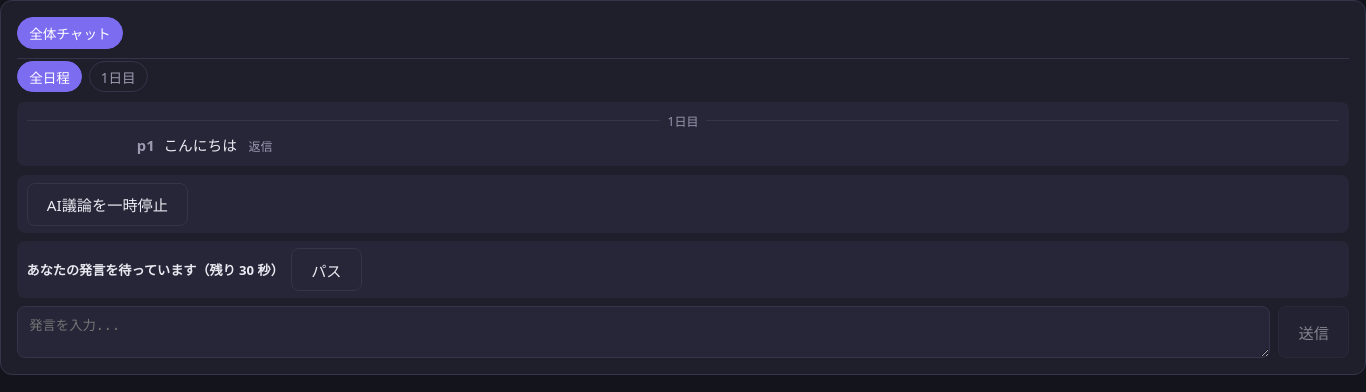
Scenario: ChatPanel › keeps the send button usable while a pass is in flight
Type "考えを述べます" into the text box with placeholder "発言を入力..." at (644, 332), box [17, 306, 1270, 358]
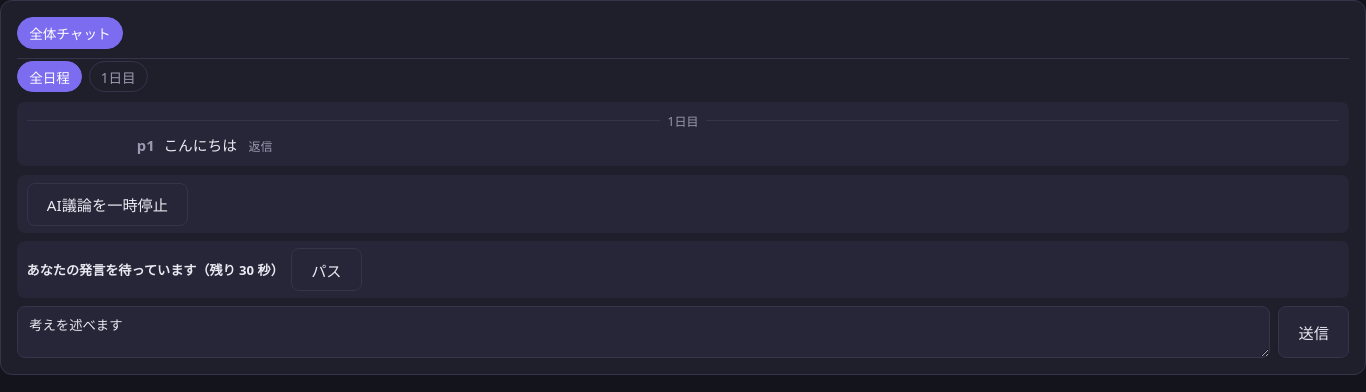
Click the button "パス" at (326, 270), box [291, 248, 362, 291]
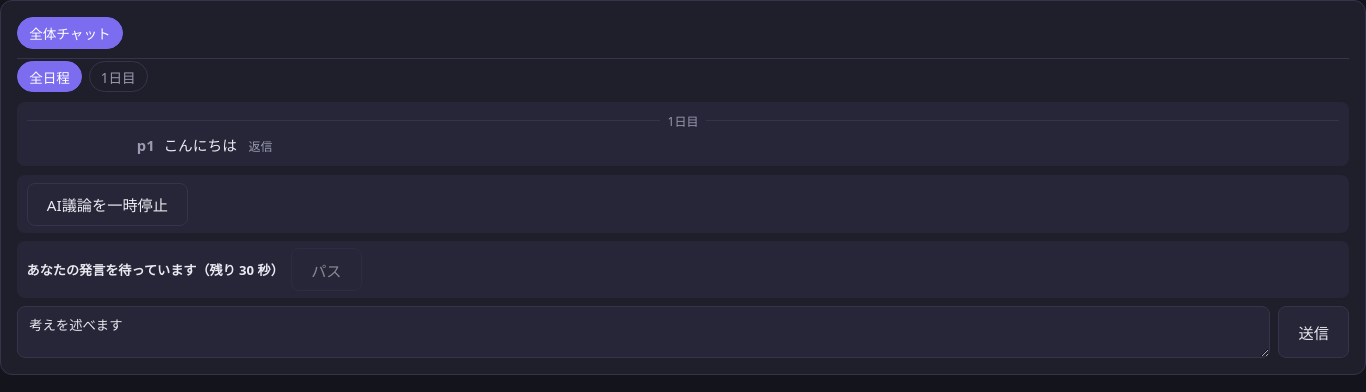
expect the button "送信" is enabled: met, box [1278, 306, 1349, 358]
expect the button "パス" is disabled: met, box [291, 248, 362, 291]
